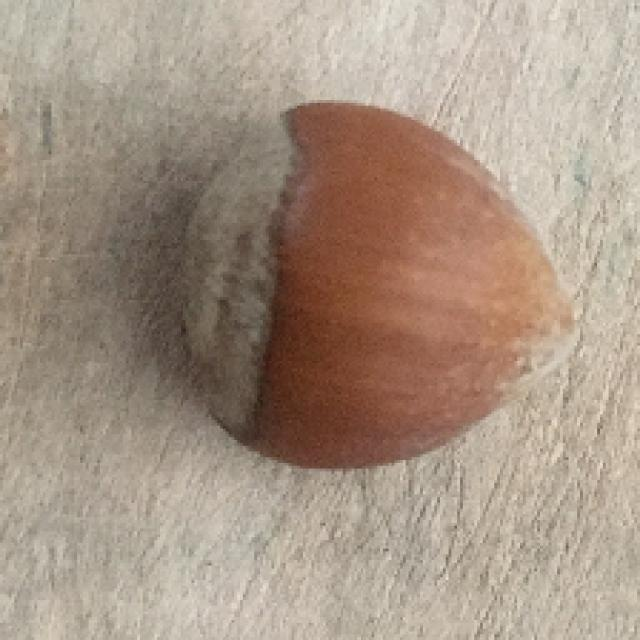qualityHazelnut: (163, 99, 579, 480)
